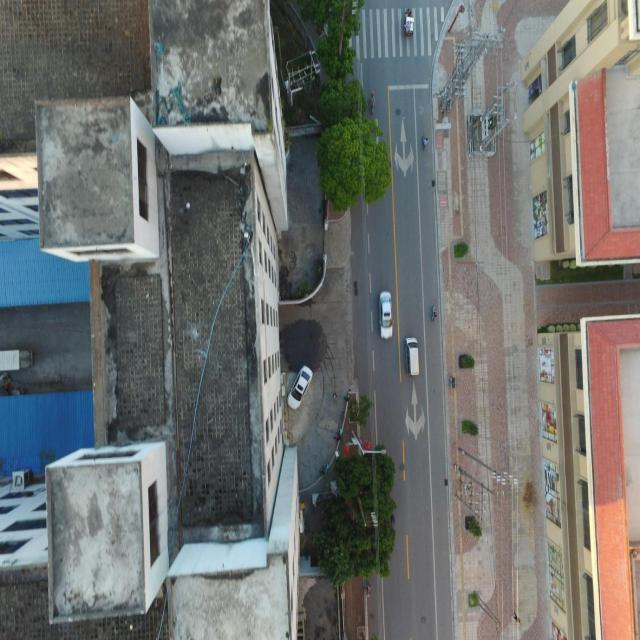p3rson: (512, 610, 520, 623), (318, 465, 326, 475), (332, 431, 342, 439), (422, 136, 427, 147), (343, 393, 349, 401)
